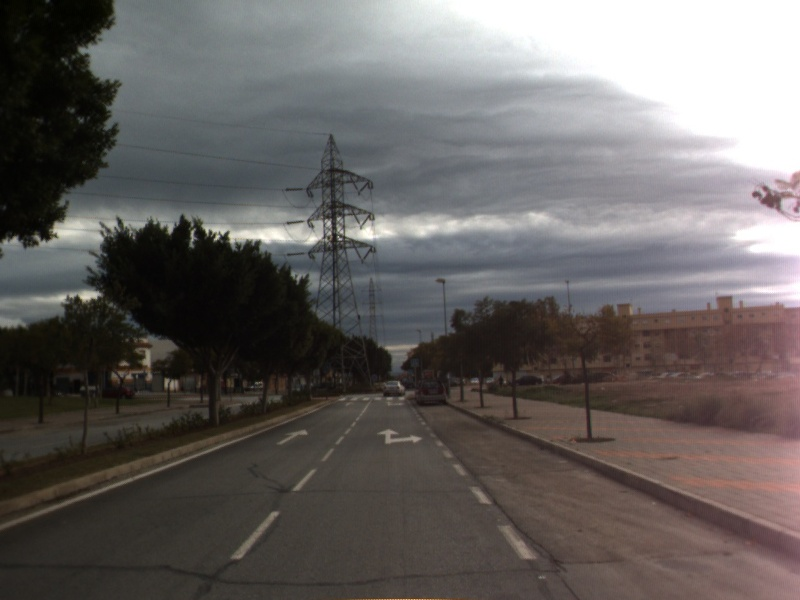STRAIGHT: (274, 427, 310, 447)
STRAIGHT_RIGHT: (375, 427, 425, 446)
